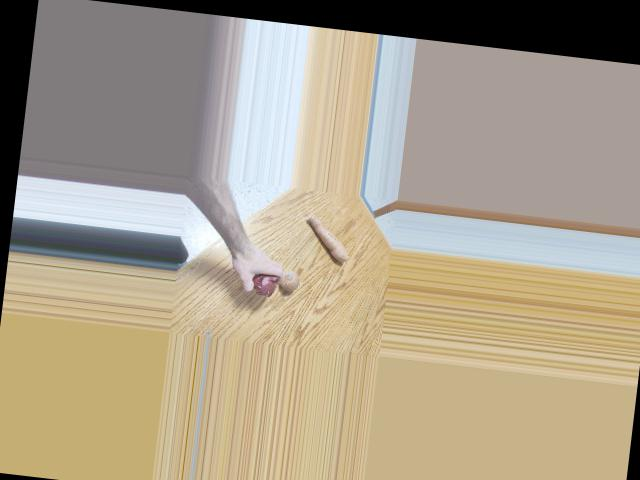onion: (273, 263, 300, 291)
